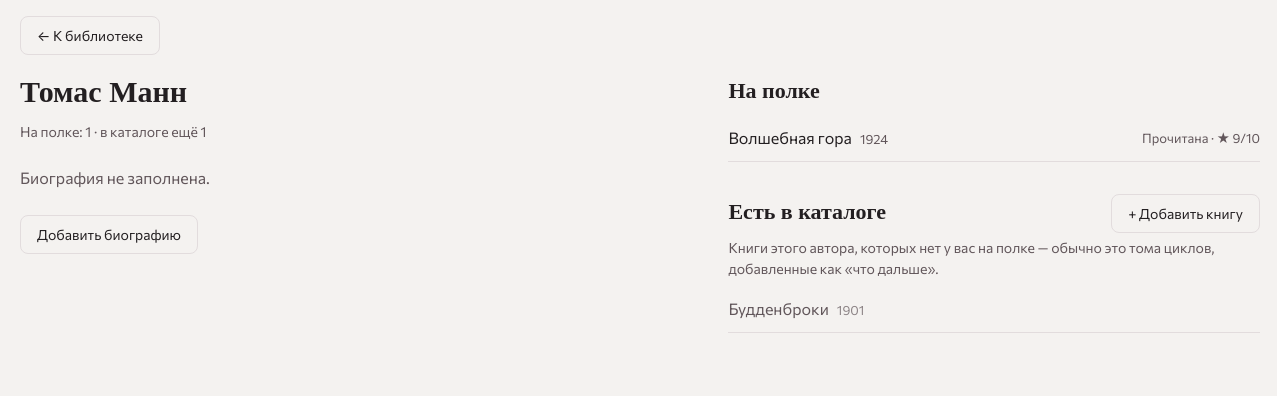
Test: админ может написать биографию, и она появляется на странице
This screenshot has width=1277, height=396.
Expected: the heading "Томас Манн" is shown, [20, 70, 187, 116]
Expected: the text "Биография не заполнена." is shown, [20, 168, 210, 187]
Click the button "Добавить биографию".
click(109, 234)  # box [20, 215, 198, 254]
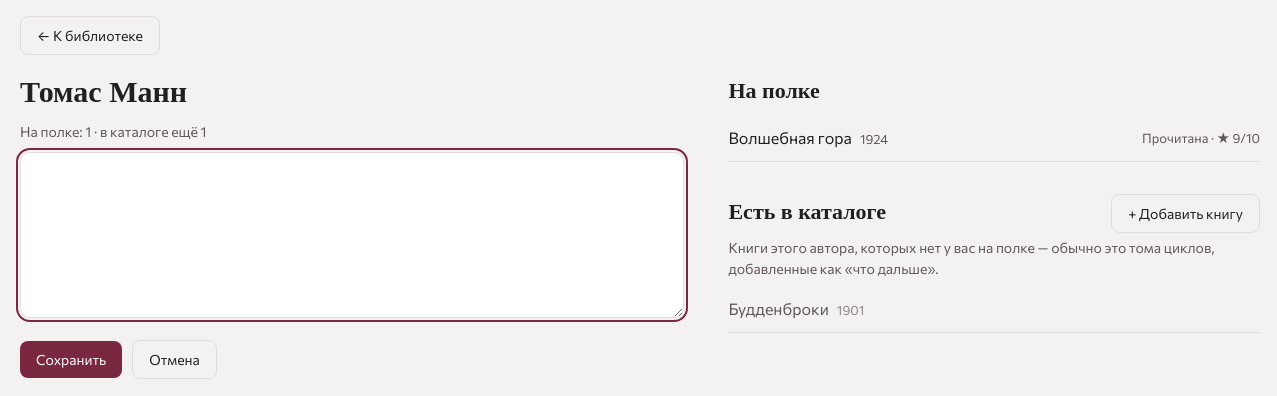
Type "Немецкий писатель, нобелевский лауреат." into the text box named "Биография автора".
click(352, 235); type("Немецкий писатель, нобелевский лауреат.")  # box [20, 152, 684, 318]
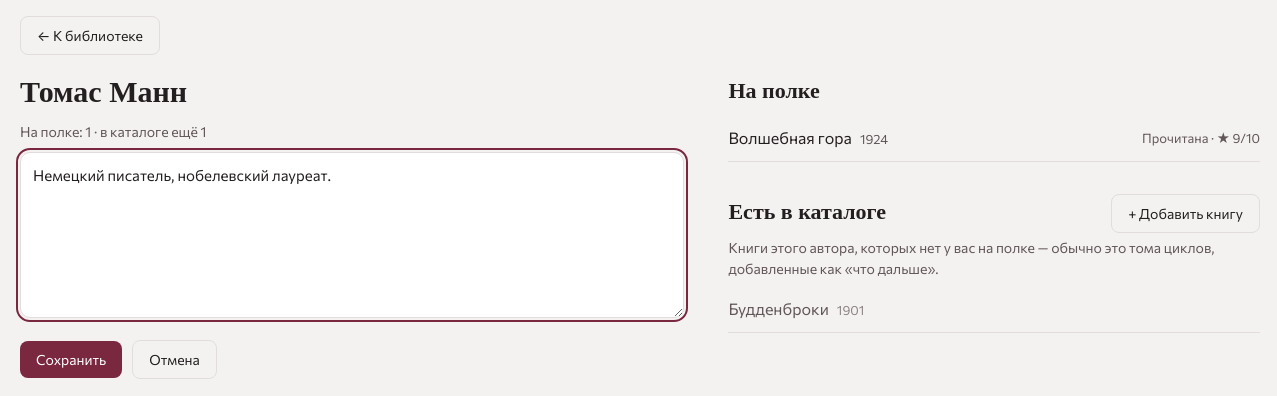
Click the button "Сохранить".
click(71, 360)  # box [20, 341, 122, 378]
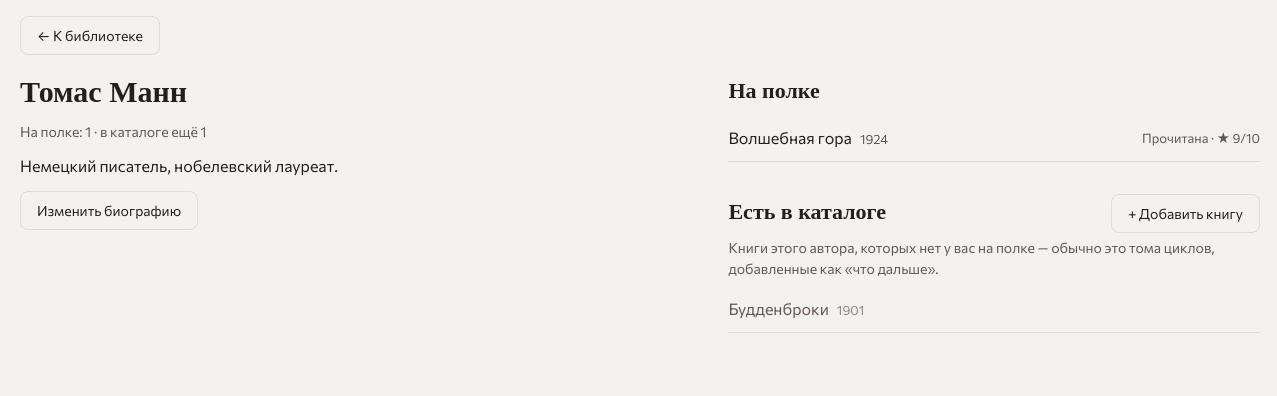
Now the text "Немецкий писатель, нобелевский лауреат." is shown, box [20, 156, 338, 175]
